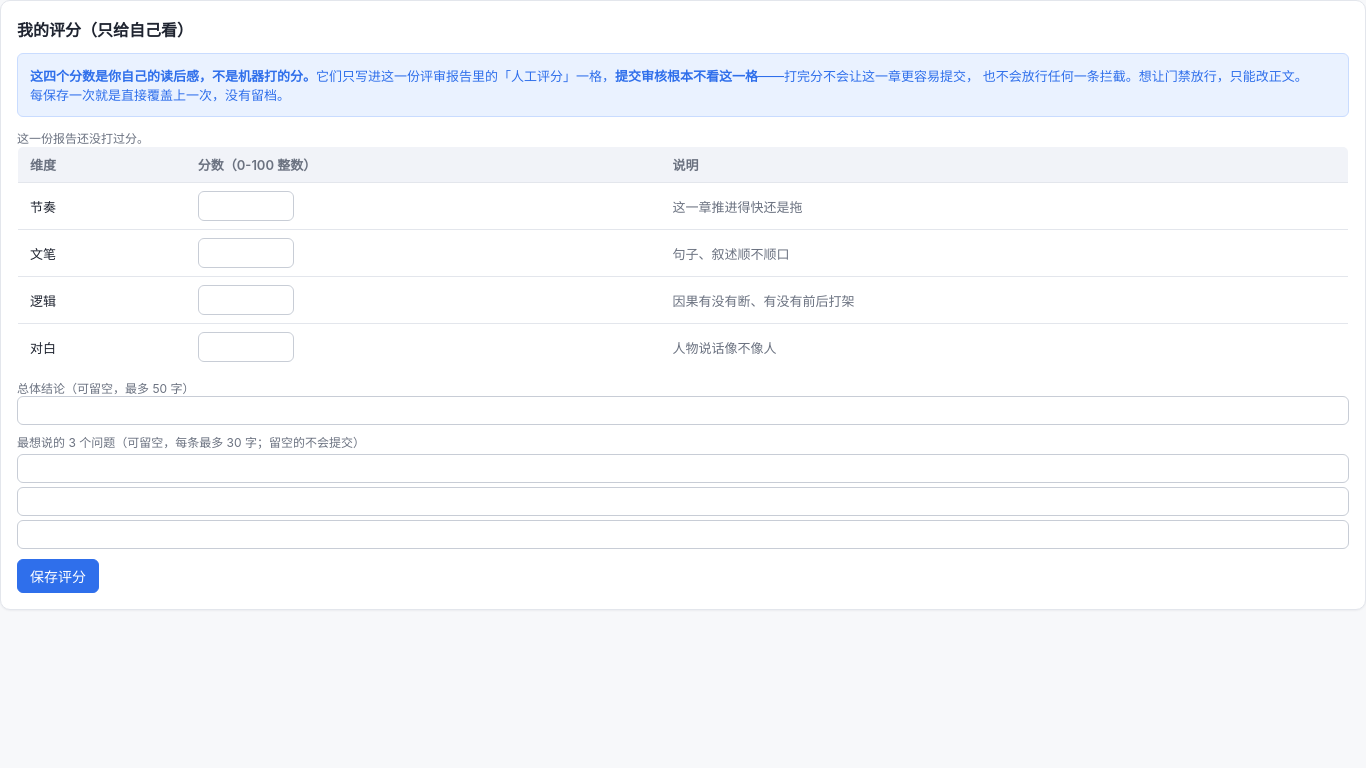
Test: ChapterJudgeSection › 非整数 ⇒ 前端拦住，不发请求（后端会 422，白跑一趟）
This screenshot has width=1366, height=768.
Expected: the button with test id "judge-submit" is enabled, [17,559,99,593]
Type "80" into the field with test id "judge-score-pacing" at x=246, y=206, box [198,191,294,221]
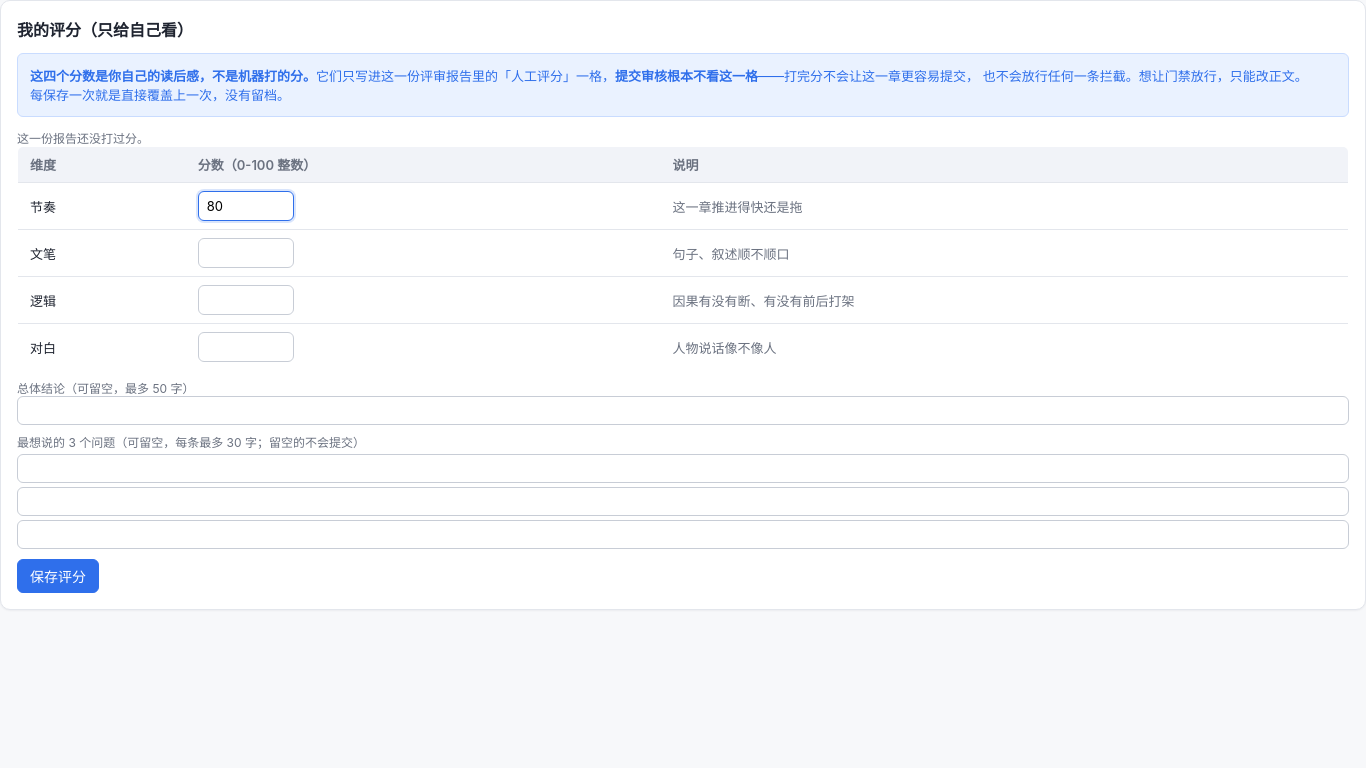
Type "7.5" into the field with test id "judge-score-style" at x=246, y=253, box [198,238,294,268]
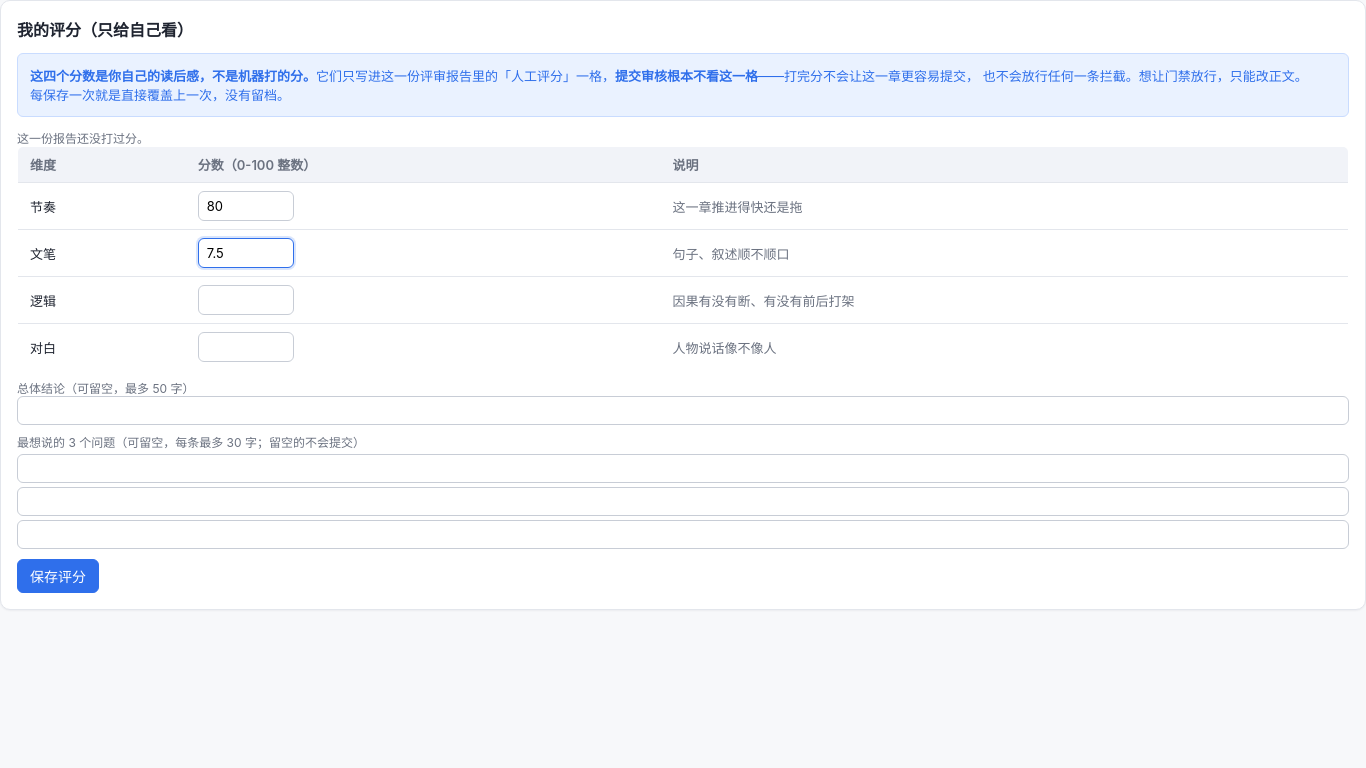
Type "88" into the field with test id "judge-score-logic" at x=246, y=300, box [198,285,294,315]
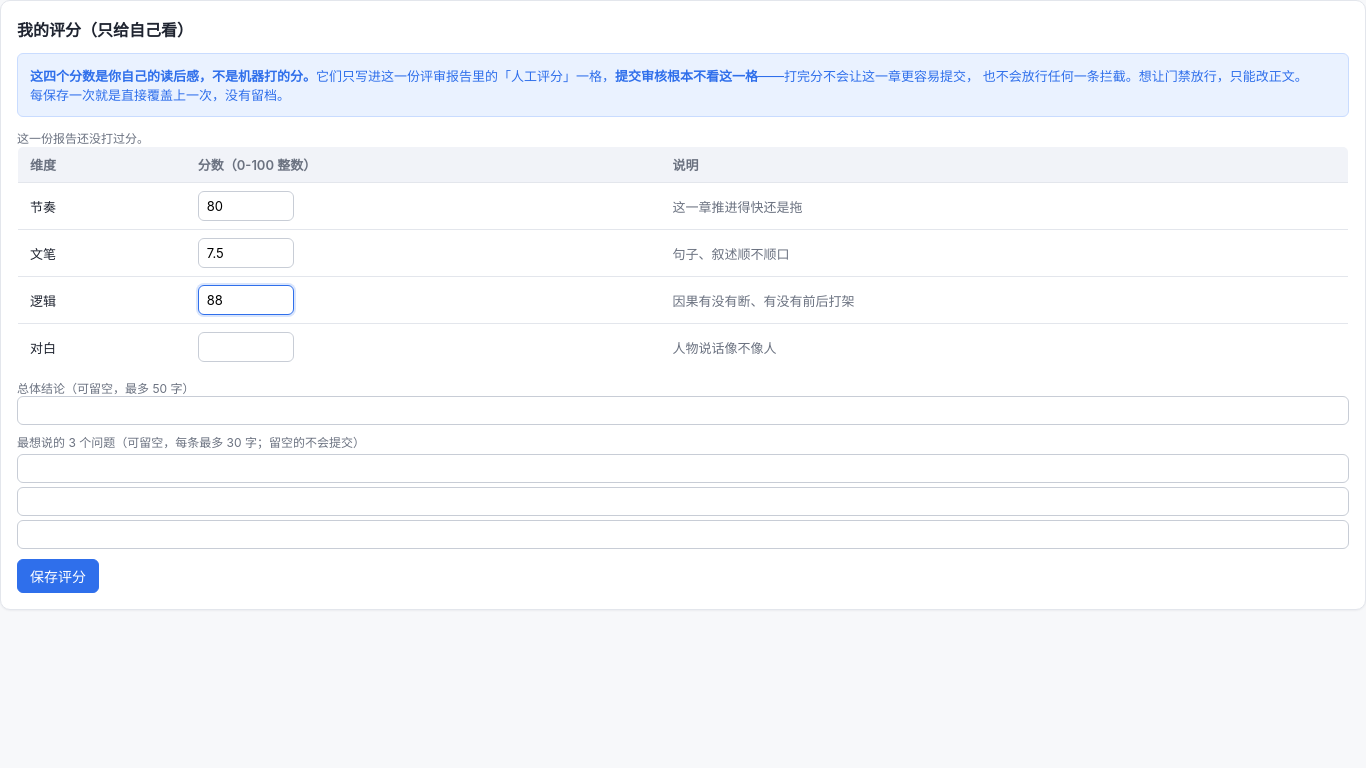
Type "70" into the field with test id "judge-score-dialogue" at x=246, y=347, box [198,332,294,362]
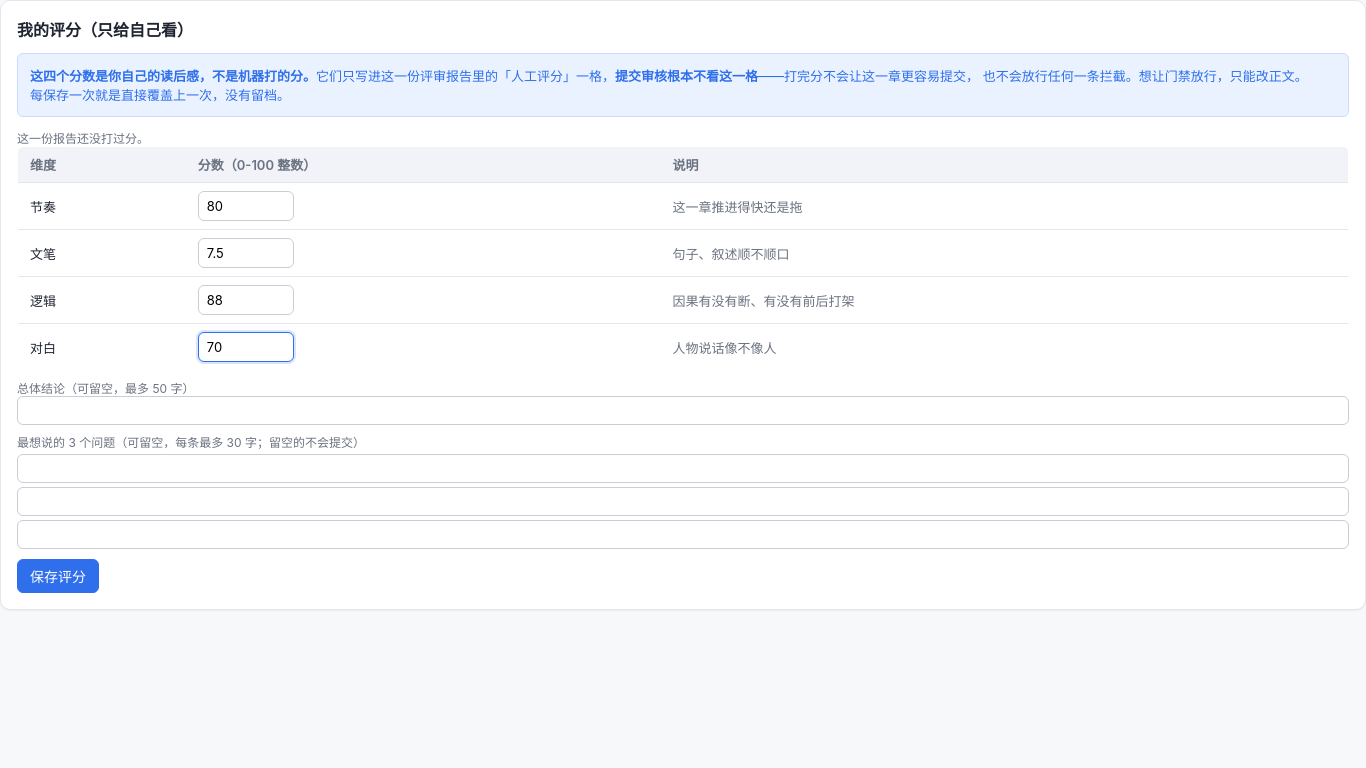
Click the button with test id "judge-submit" at x=58, y=576, box [17,559,99,593]
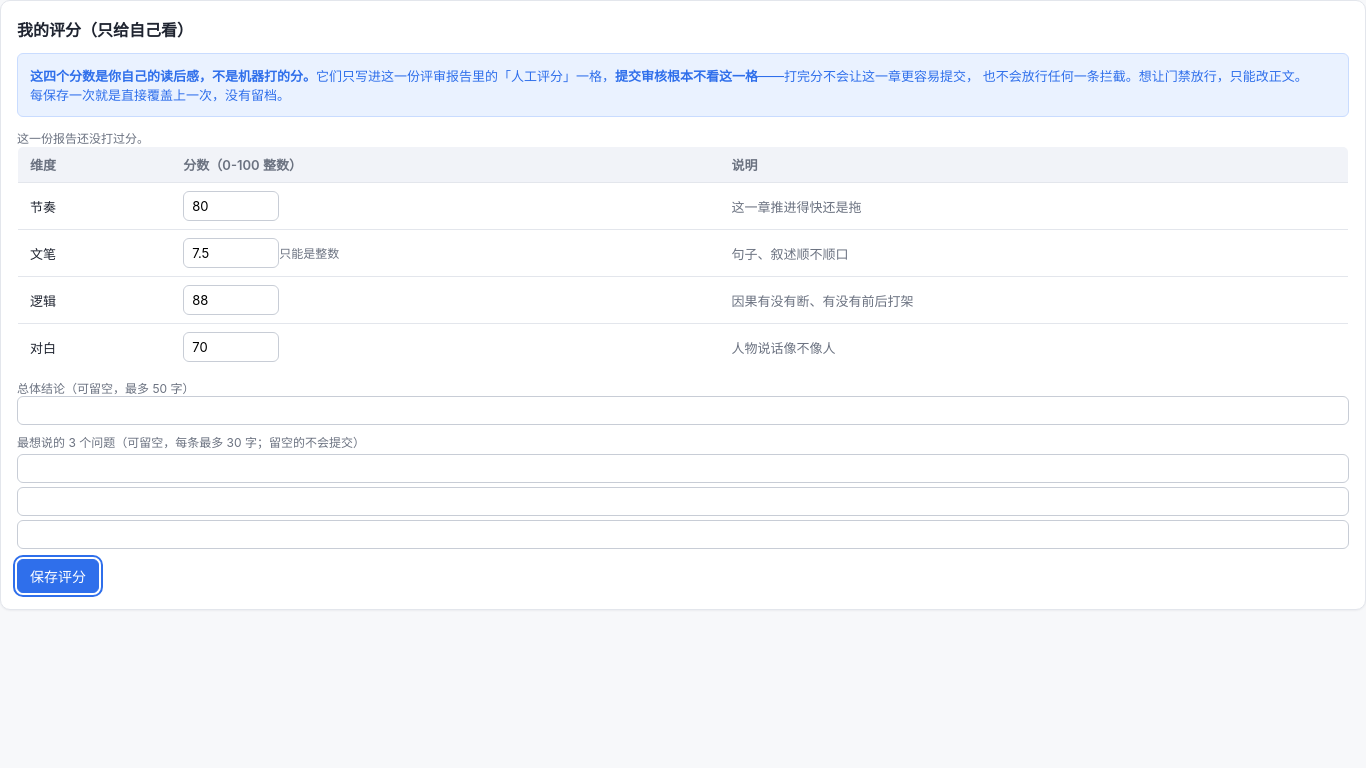
Expected: the text with test id "judge-err-style" reads "只能是整数", [279,246,339,261]
